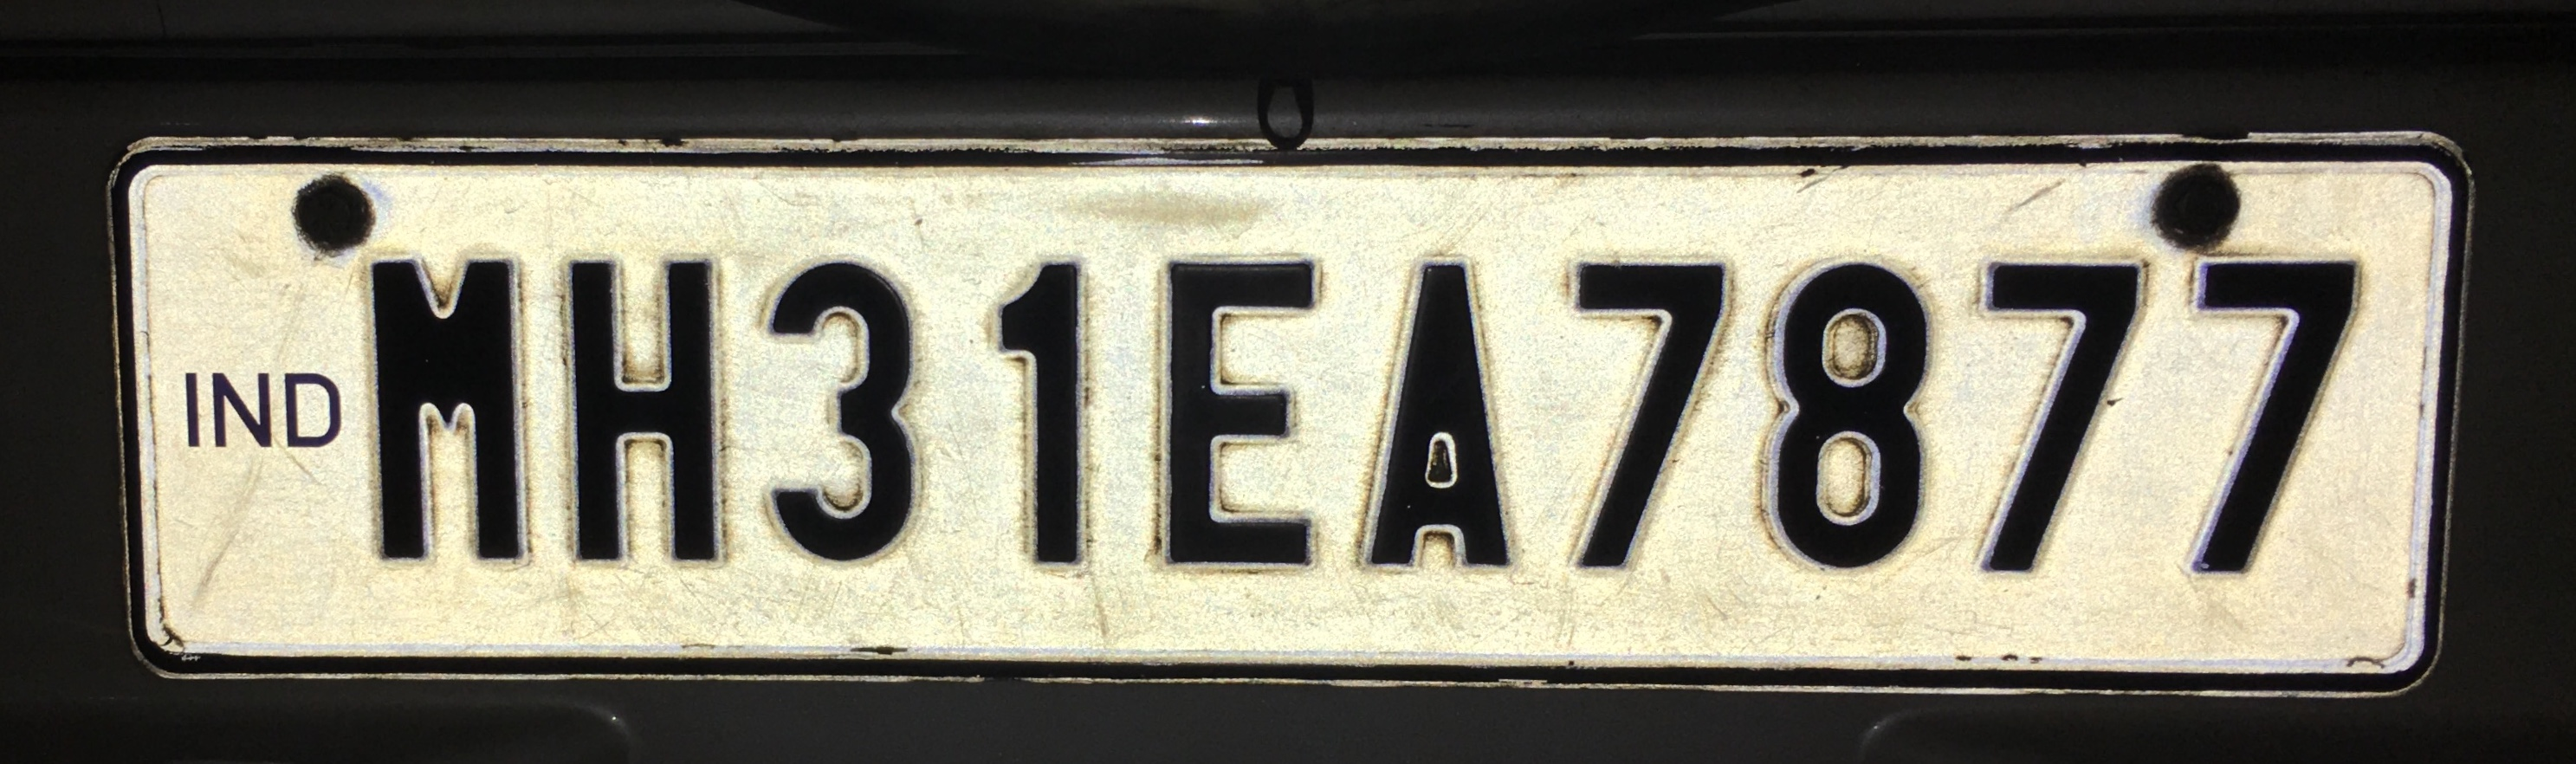numberplate: (94, 129, 2479, 702)
